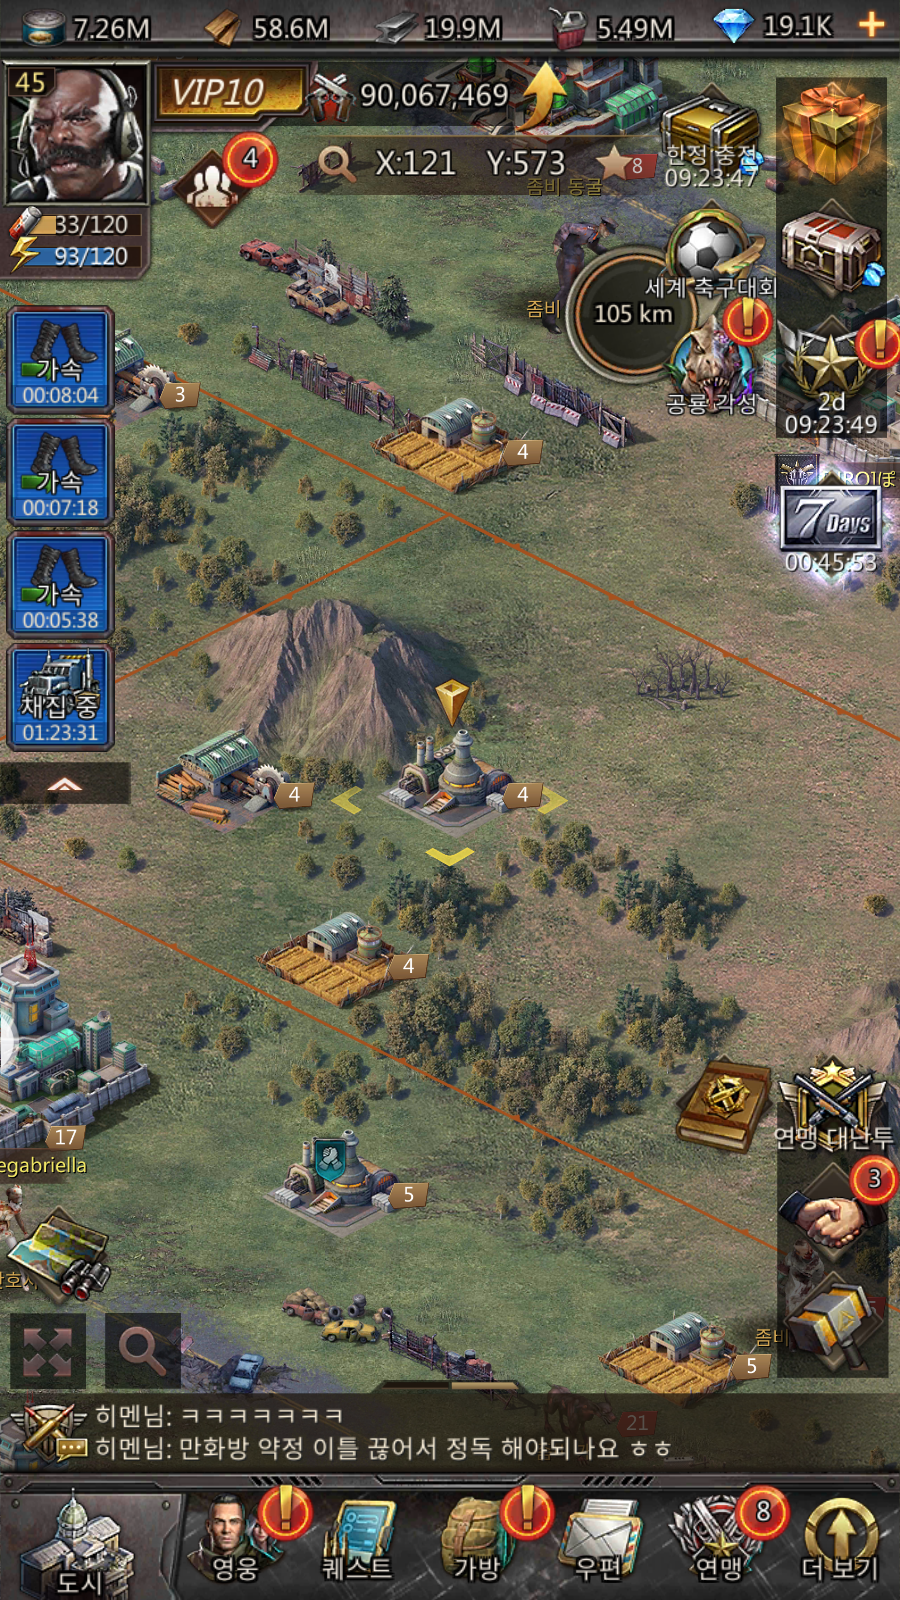city: (8, 1493, 176, 1600)
empty_steel: (312, 652, 584, 880)
open_panel: (96, 1307, 195, 1395)
troops_cnt_4: (156, 115, 285, 247)
